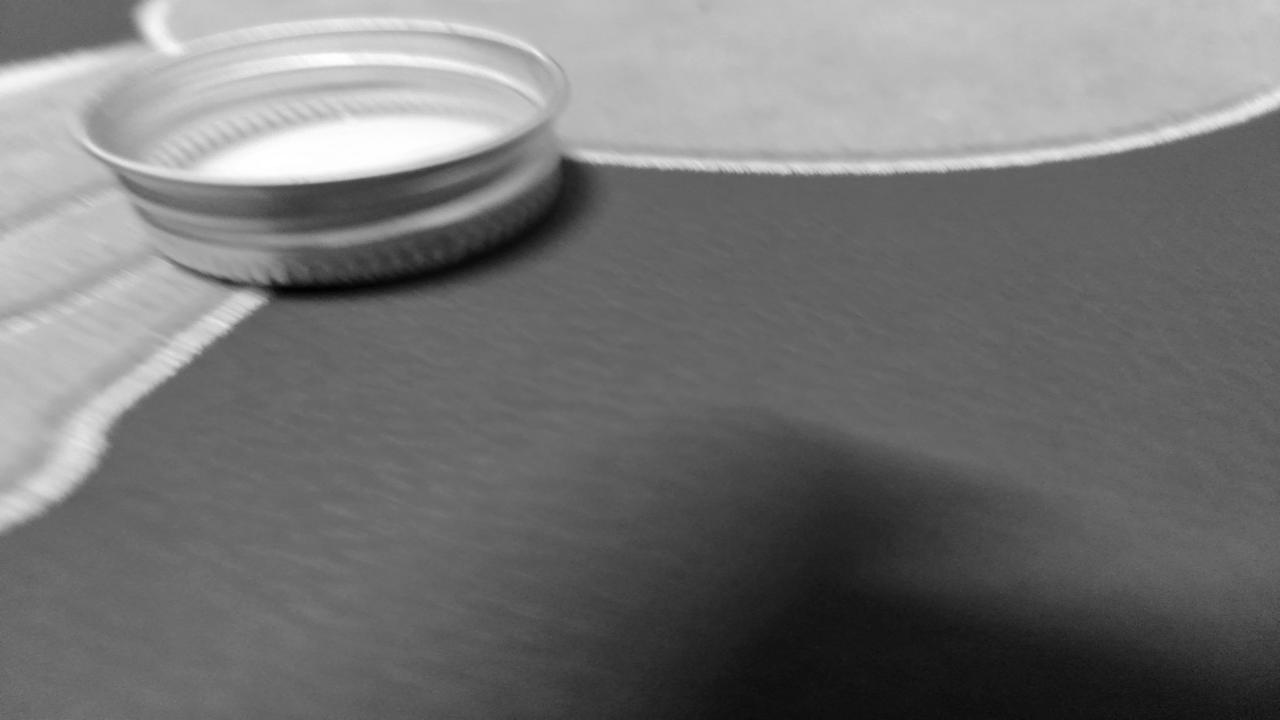bottle_cap: (68, 14, 575, 289)
